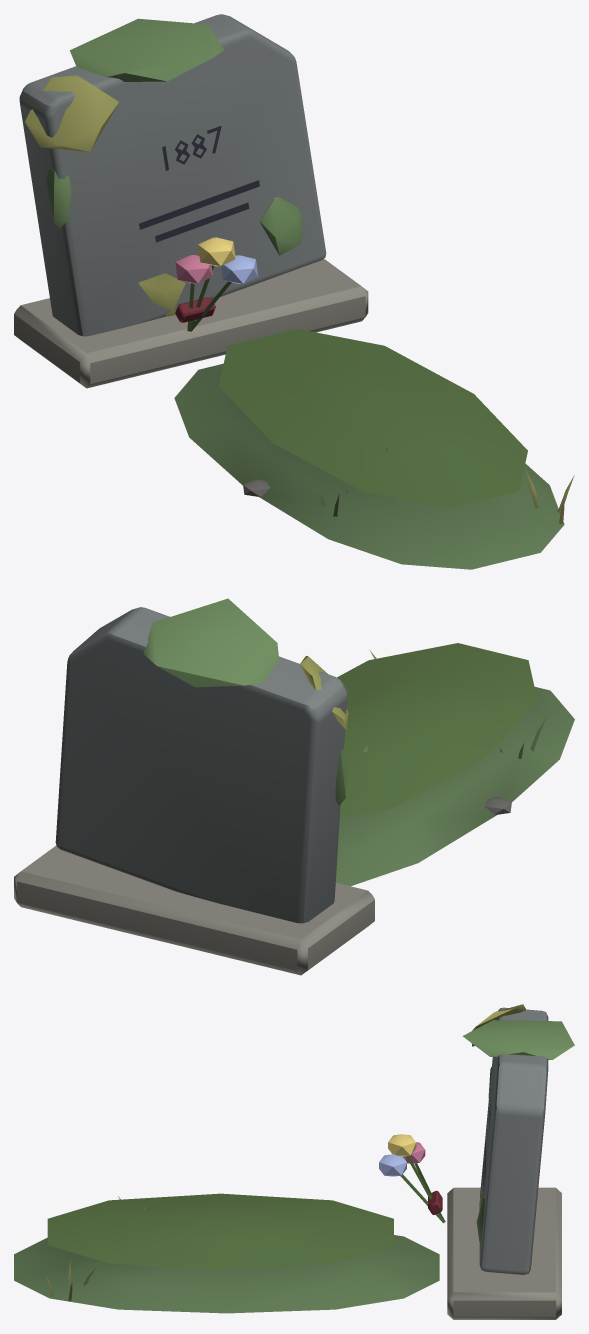
Rendered from grave_marked_slab.glb.
The picture shows the model from 3 angles, top to bottom: view 1: azimuth 30°, elevation 25°; view 2: azimuth 150°, elevation 25°; view 3: azimuth 270°, elevation 25°; orthographic projection. The views are drawn at different scales.
Parts seen in each view (by area): view 1: grave_marked_slab, flag, sign; view 2: grave_marked_slab; view 3: grave_marked_slab, flag.
Part boxes in pixels (box(x1,y1,x2,y2)): grave_marked_slab: box(14, 14, 574, 569); flag: box(175, 237, 258, 331); sign: box(139, 125, 259, 242); grave_marked_slab: box(14, 598, 574, 975); grave_marked_slab: box(14, 1004, 574, 1319); flag: box(379, 1134, 445, 1223).
Size of the model in its own units: 0.8948 by 0.837 by 1.86.
